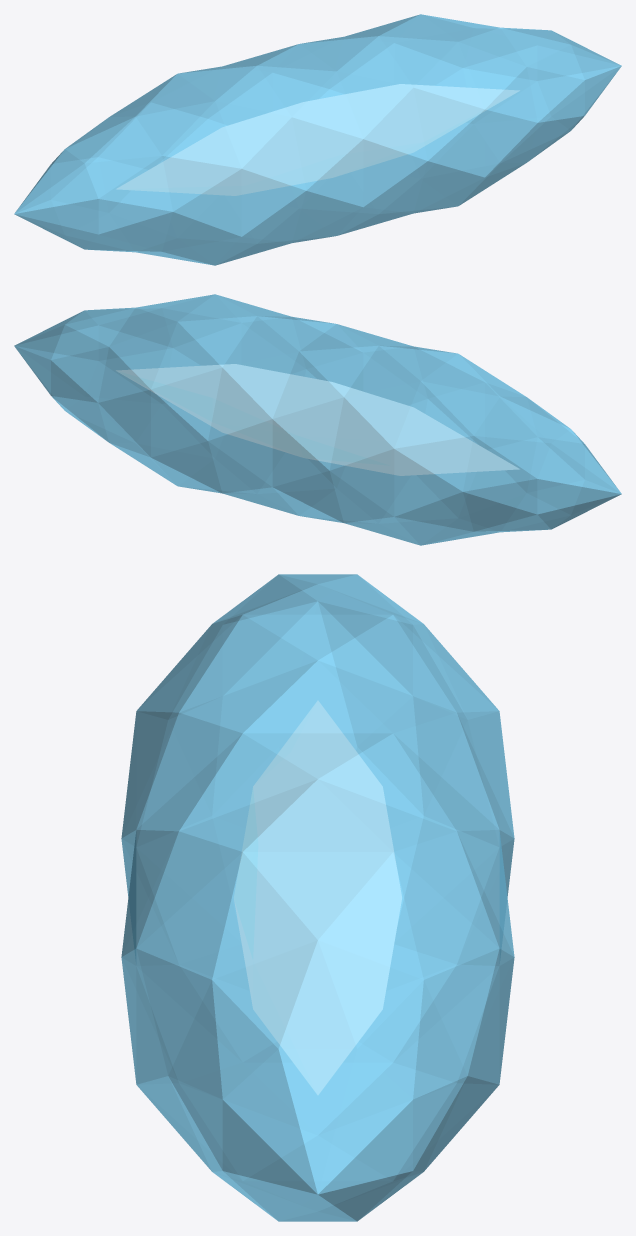
File: gulli-crystal.glb
The picture shows the model from 3 angles, top to bottom: view 1: azimuth 30°, elevation 25°; view 2: azimuth 150°, elevation 25°; view 3: azimuth 270°, elevation 25°; orthographic projection. The views are drawn at different scales.
Parts seen in each view (by area): view 1: GulliCrystal_Crystal, GulliCrystal_Core; view 2: GulliCrystal_Crystal, GulliCrystal_Core; view 3: GulliCrystal_Crystal, GulliCrystal_Core.
Part boxes in pixels (<box>): GulliCrystal_Crystal: <box>14,14,621,265</box>; GulliCrystal_Core: <box>116,84,519,195</box>; GulliCrystal_Crystal: <box>14,294,621,545</box>; GulliCrystal_Core: <box>116,364,519,475</box>; GulliCrystal_Crystal: <box>121,574,514,1221</box>; GulliCrystal_Core: <box>234,701,401,1094</box>.
Bounding box in the file's own units: 1.5 × 0.42 × 0.42.
